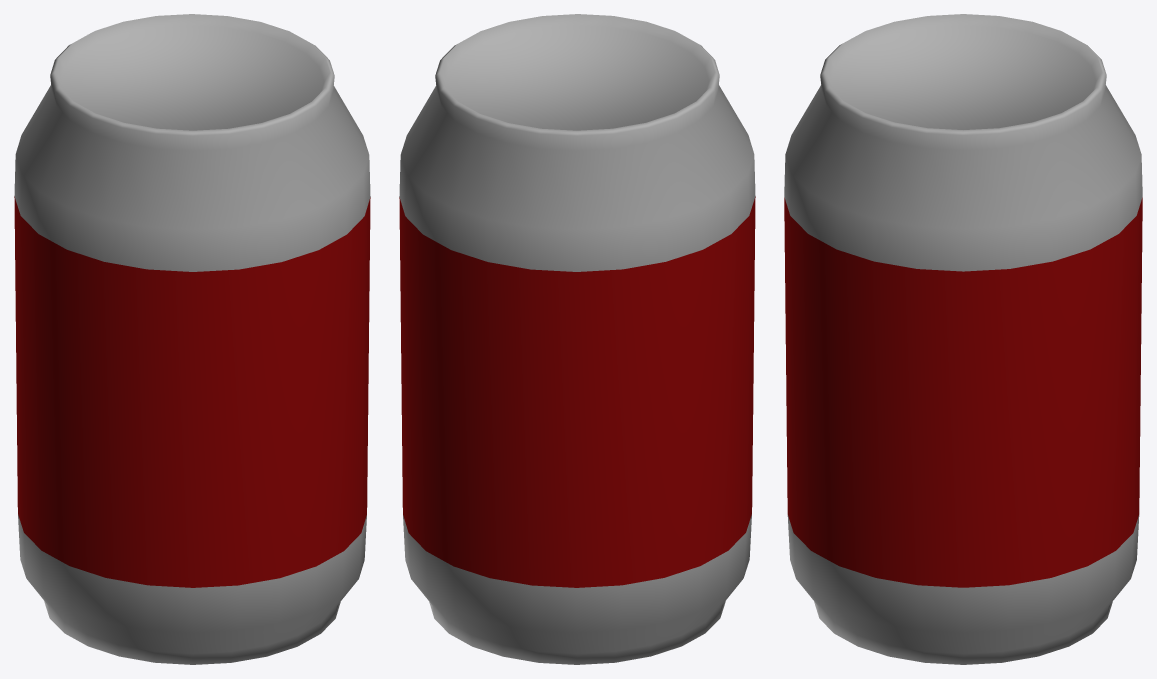
The model's file is Dose.fbx.
3 views of the same model, side by side, from view 1: azimuth 30°, elevation 25°; view 2: azimuth 150°, elevation 25°; view 3: azimuth 270°, elevation 25° (orthographic).
Visible parts, largest first — view 1: Cylinder; view 2: Cylinder; view 3: Cylinder.
Boxes of the visible parts, <box> form: Cylinder: <box>14,14,370,664</box>; Cylinder: <box>399,14,755,664</box>; Cylinder: <box>784,14,1142,664</box>.
Size of the model in its own units: 2.11 by 3.47 by 2.12.
